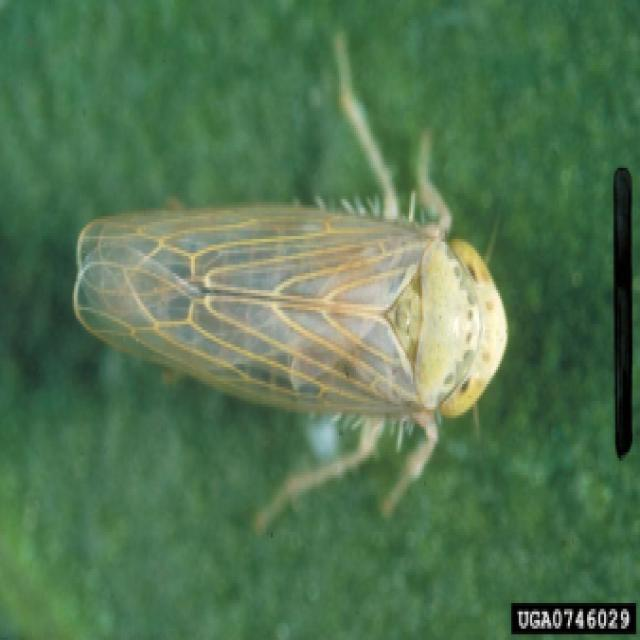Yechan: (59, 136, 511, 493)
